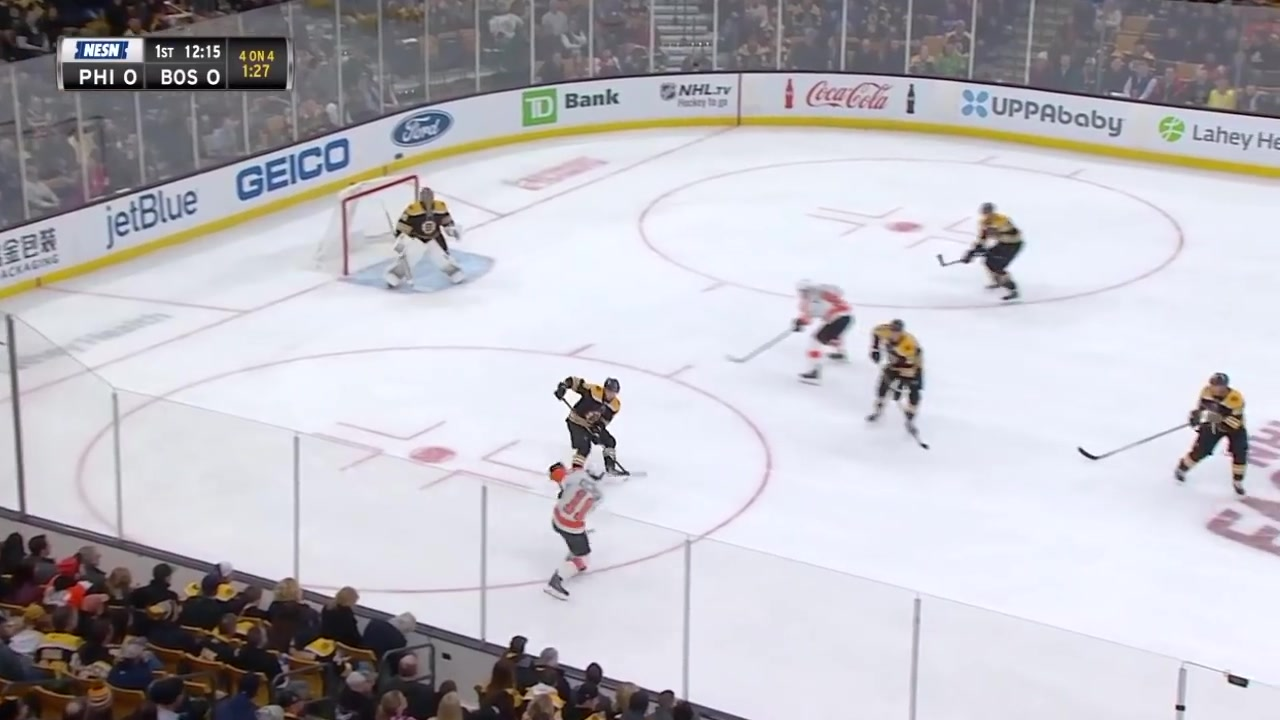Geico: (234, 135, 360, 214)
